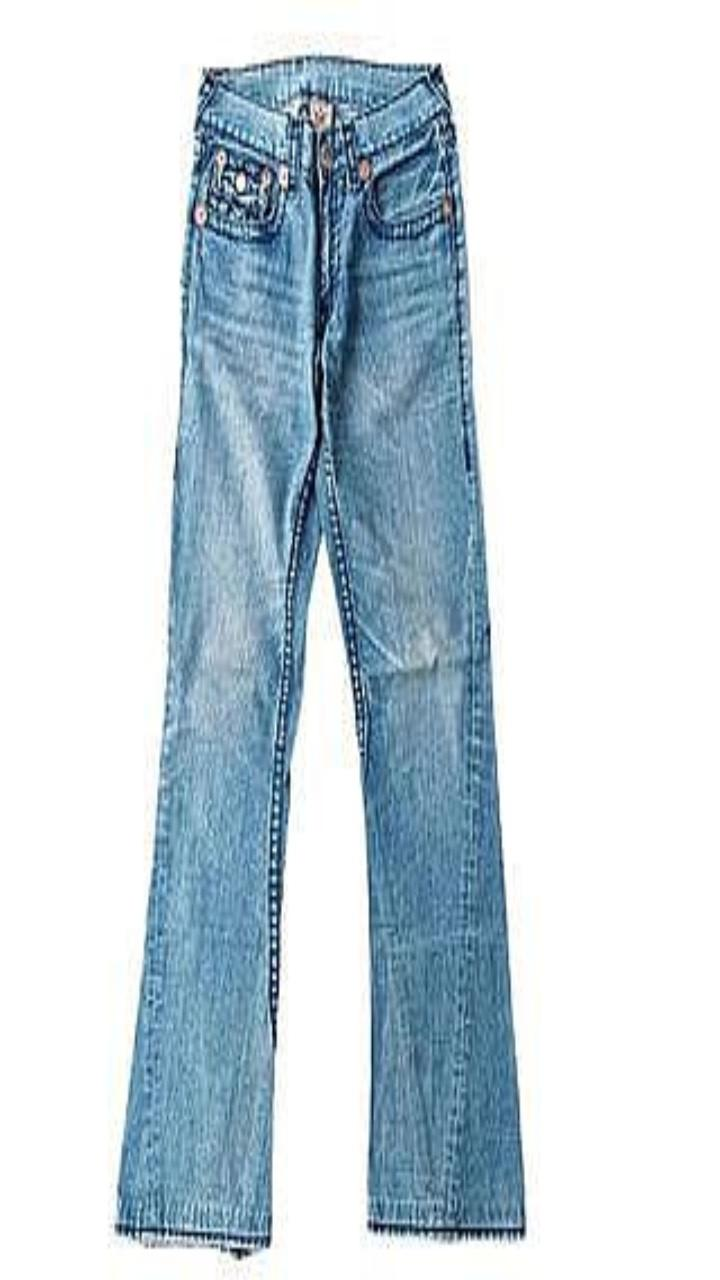Jeans: (116, 56, 524, 1254)
